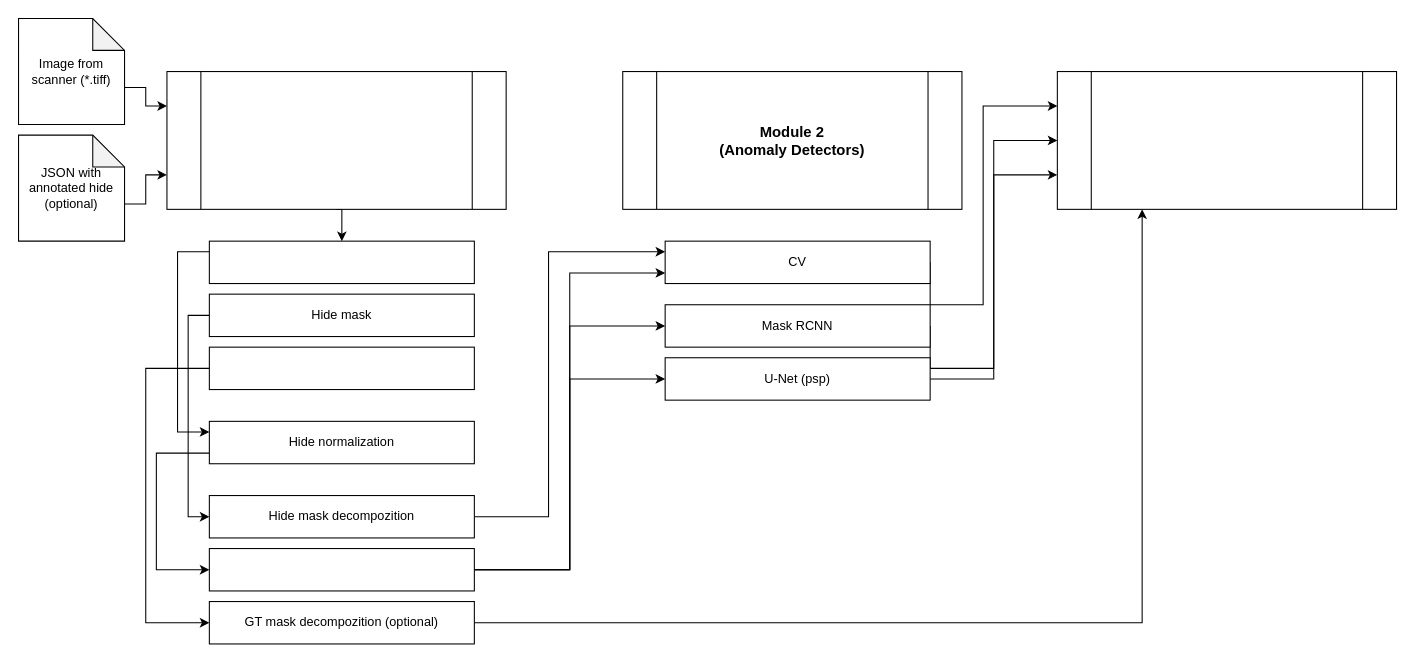
This 1415x662 diagram has some shape labels left out. Here are the shapes that lost their labels. From the top down, the centre of each, then its label:
pixel 336 139: Module 1 (Hide Decompozition)
pixel 1226 139: Module 3 (Smart Labelling)
pixel 341 262: Background extraction
pixel 341 368: Ground Truth Mask (optional)
pixel 341 569: Normalized hide decompozition
